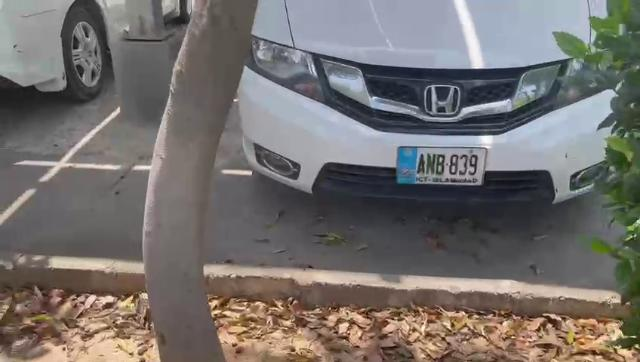plate: (395, 141, 487, 187)
